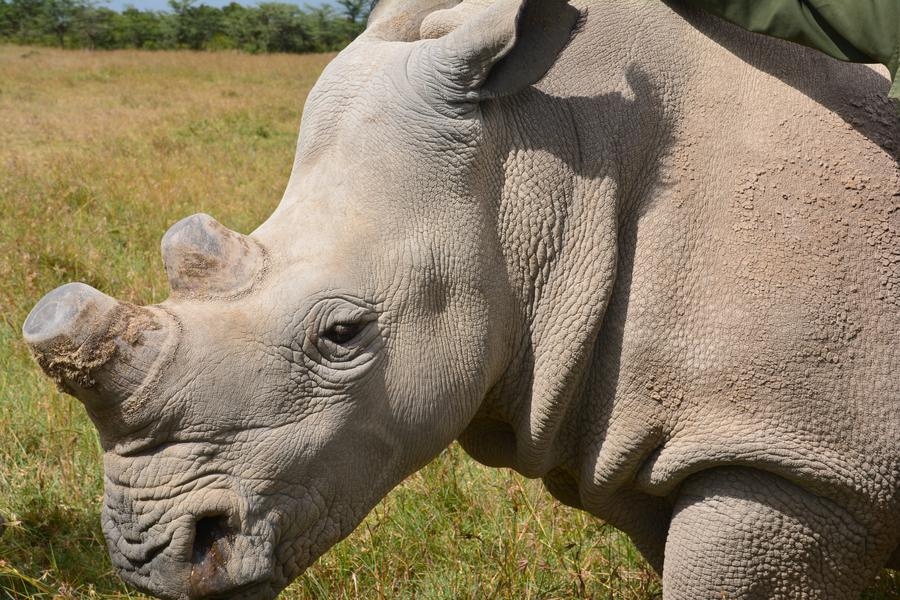rhino: (50, 8, 893, 586)
